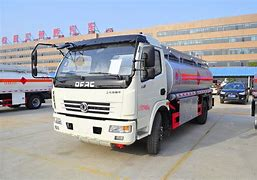oil truck: (29, 27, 215, 157)
